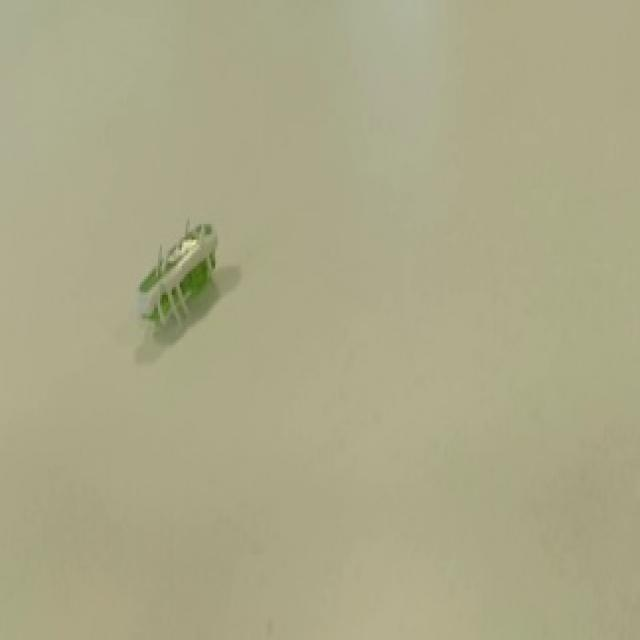4_NanoBug_Blanco: (104, 171, 267, 369)
